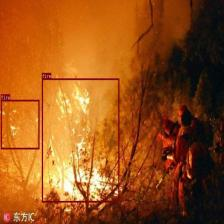fire: (42, 78, 119, 202), (1, 99, 40, 149)
